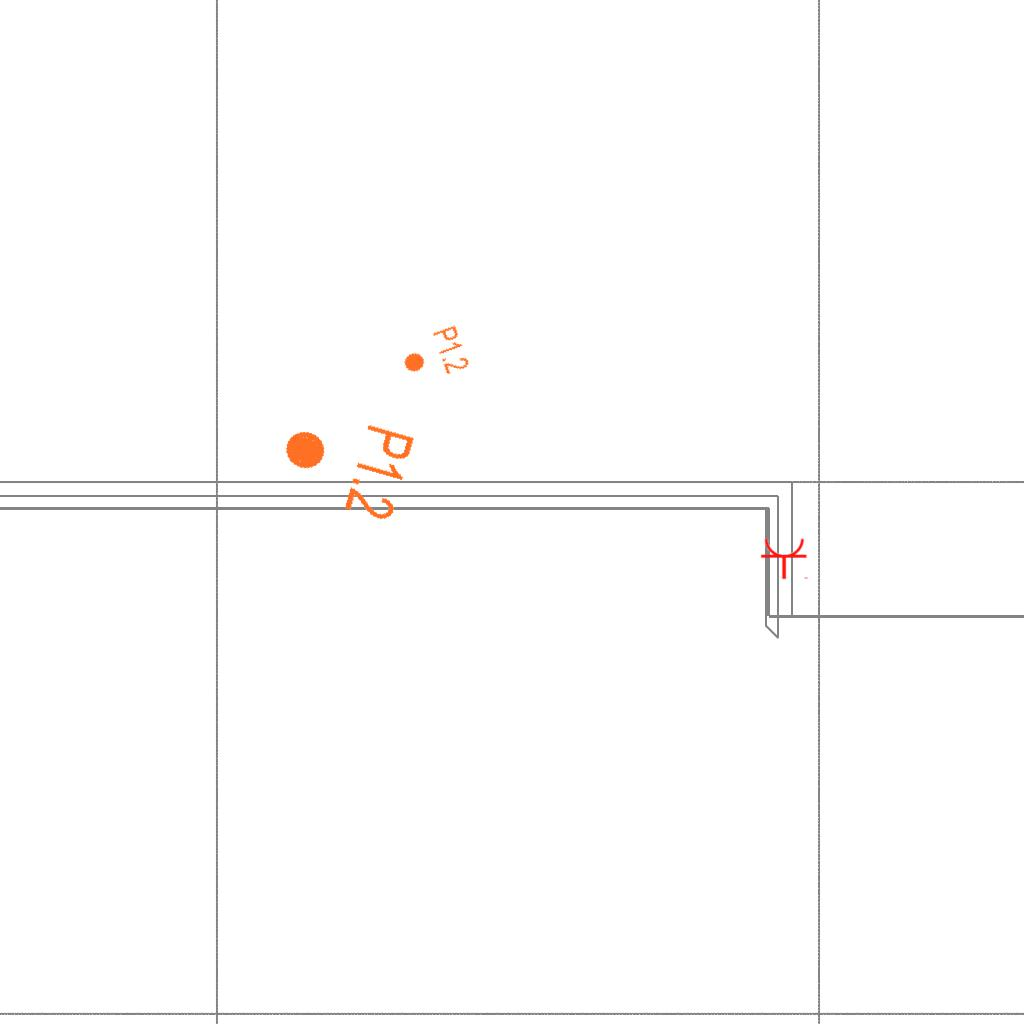Downlight_LED_Einbauleuchten_Flur: (270, 400, 419, 526), (396, 323, 472, 389)
Schukosteckdose_einfach: (760, 537, 810, 580)
